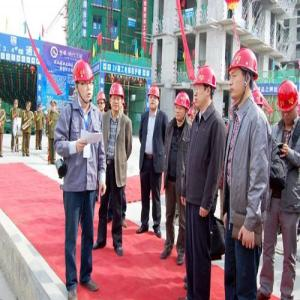red: (228, 49, 260, 103), (72, 58, 95, 103), (194, 65, 217, 110), (280, 80, 300, 126), (176, 92, 191, 125), (110, 82, 124, 113), (148, 85, 161, 112), (98, 92, 108, 112)
